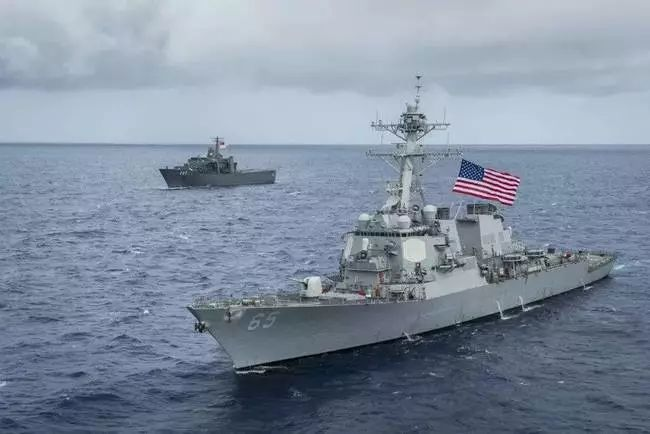warship: (186, 86, 621, 371), (153, 139, 279, 192)
